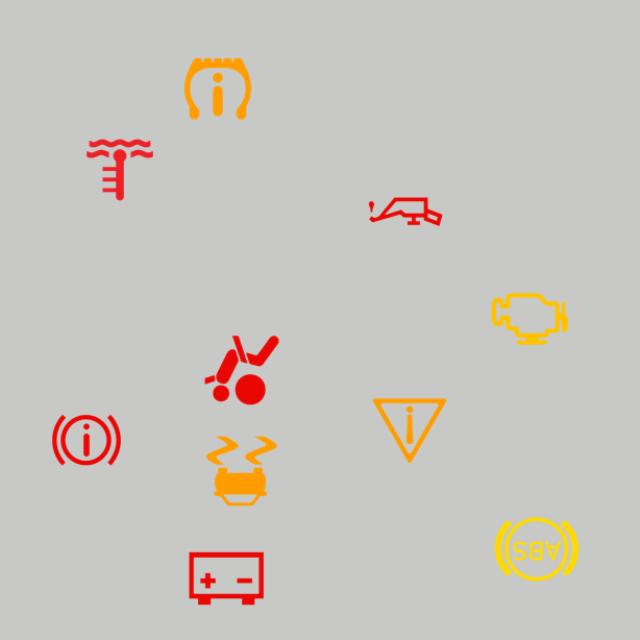Anti Lock Braking System: (491, 504, 583, 595)
Braking System Issue: (41, 394, 132, 486)
Charging System Issue: (180, 533, 272, 624)
Check Engine: (484, 273, 575, 365)
Electronic Stability Problem -ESP-: (196, 425, 288, 517)
Engine Overheating Warning Light: (74, 124, 166, 216)
Low Engine Oil Warning Light: (360, 166, 451, 257)
Low Tire Pressure Warning Light: (172, 43, 264, 134)
Master warning light: (364, 385, 455, 476)
SRS-Airbag: (196, 324, 288, 416)
